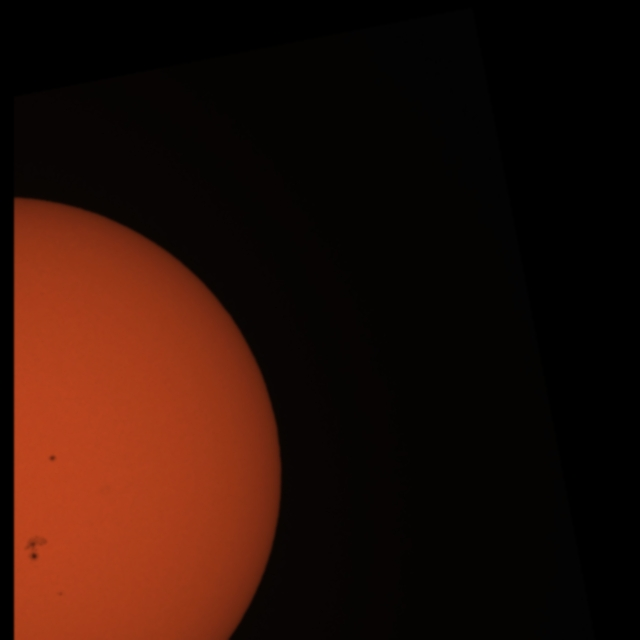sunspot: (22, 534, 50, 563), (47, 453, 58, 463), (56, 590, 65, 598)
